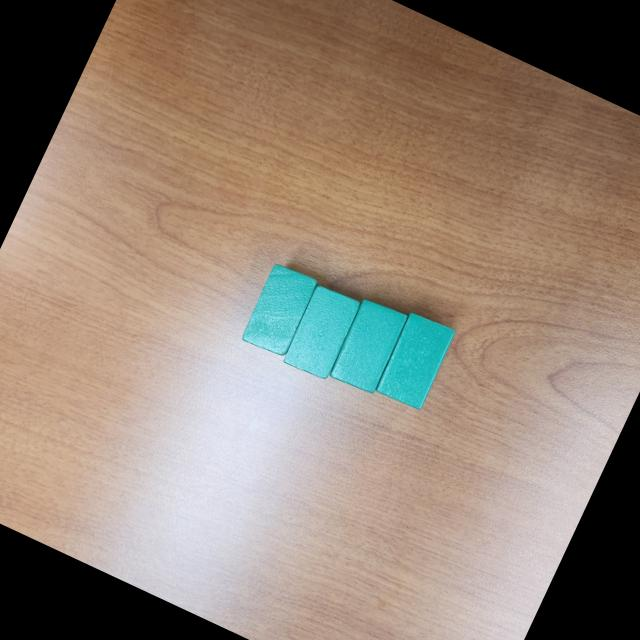green: (372, 311, 456, 414), (326, 295, 410, 398), (280, 282, 363, 382), (238, 259, 320, 360)
